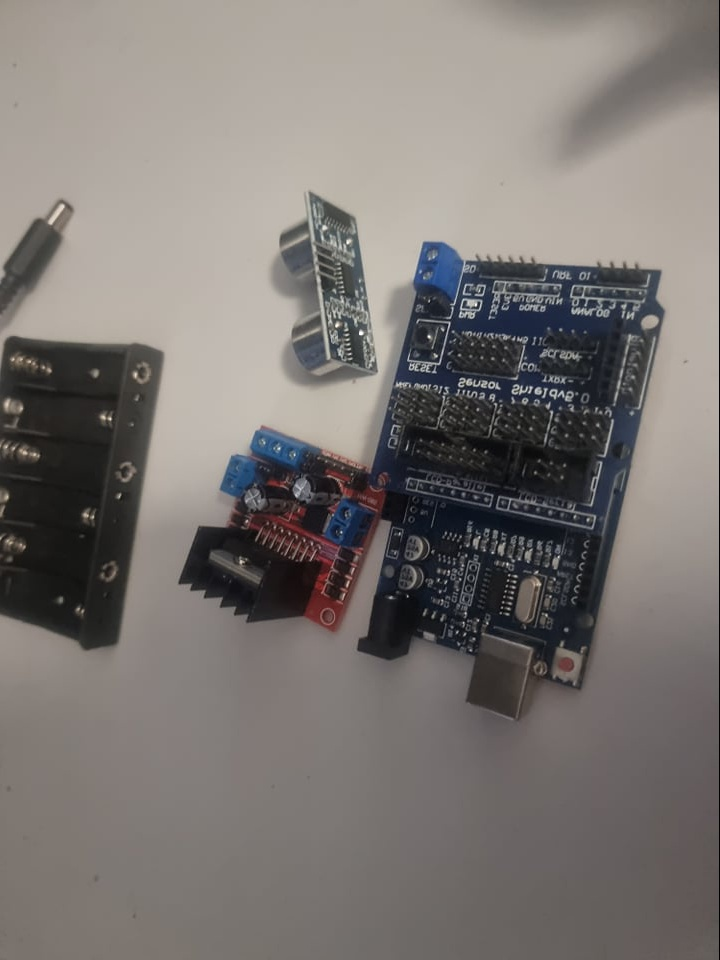5V EXPANSION: (369, 228, 653, 522)
BATTERY BOX: (4, 333, 165, 651)
MOTOR: (180, 434, 387, 656)
SENSOR: (267, 186, 387, 384)
UNO R3: (359, 533, 600, 748)
